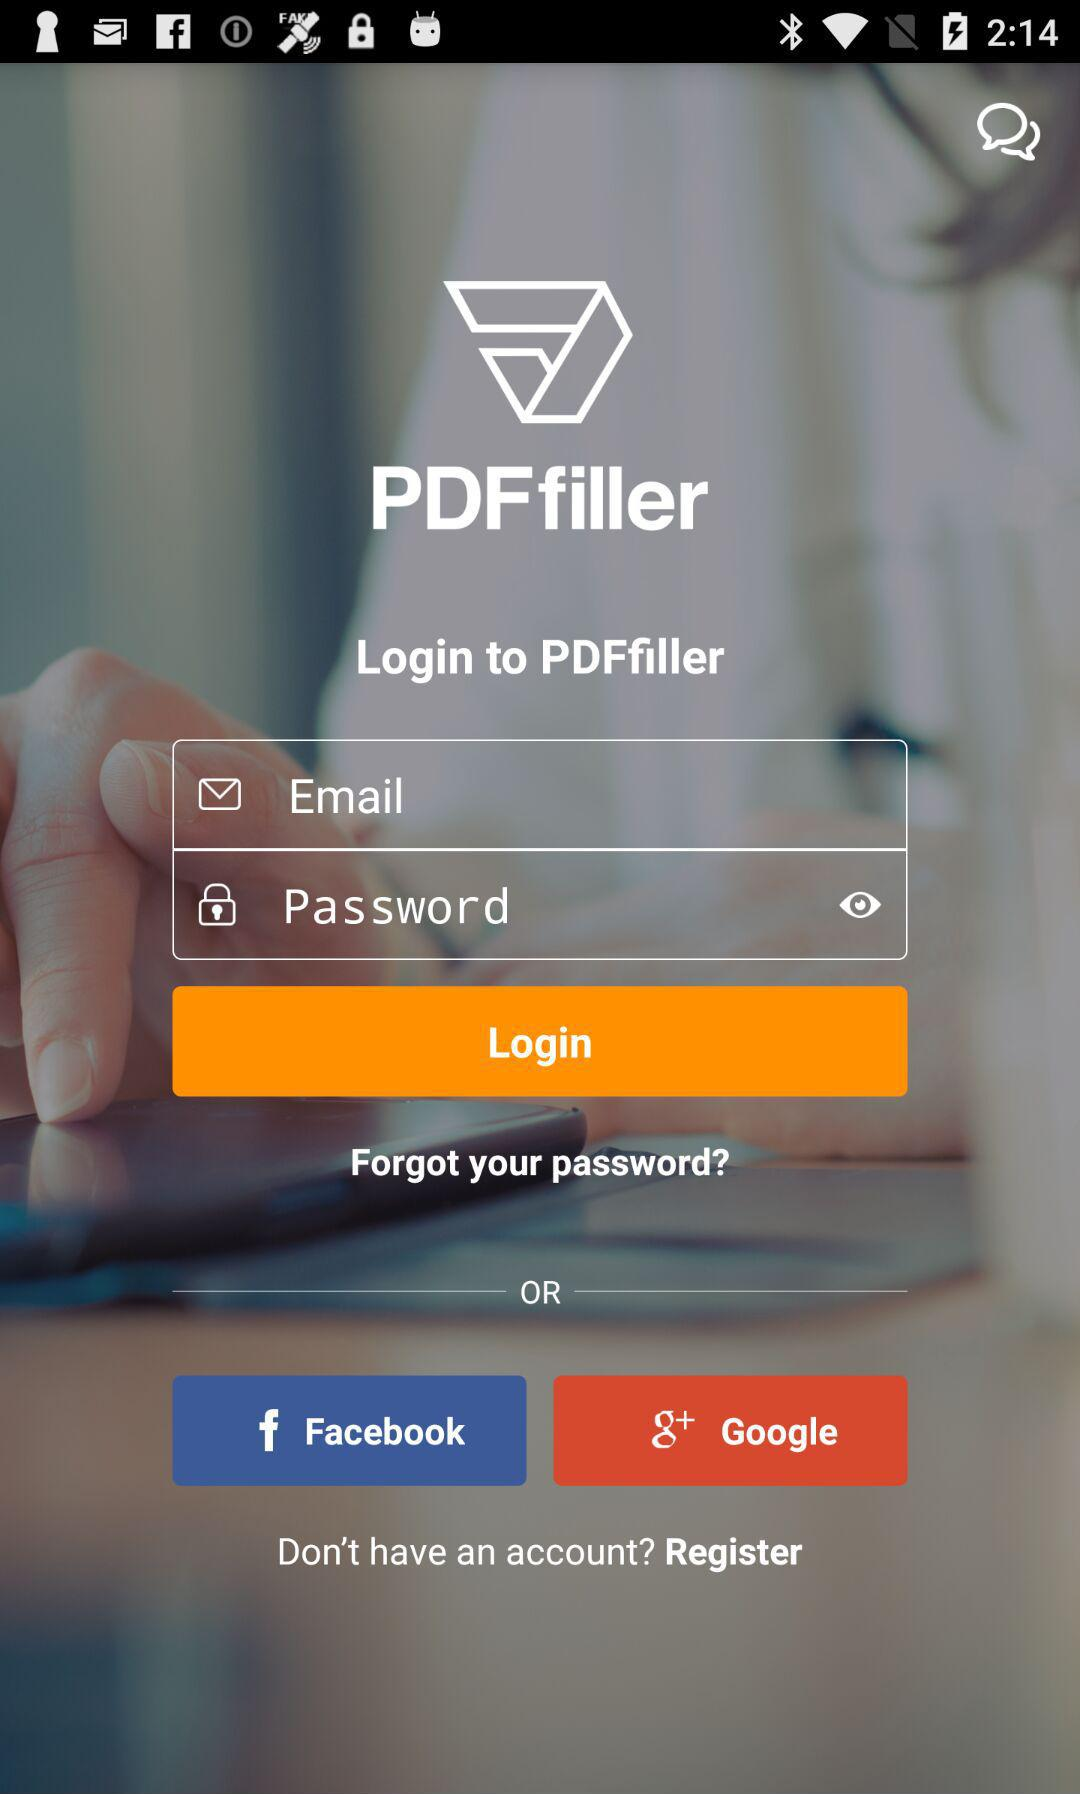BackgroundImage: (1, 64, 1080, 1794)
EditText: (172, 739, 908, 852), (172, 848, 908, 961)
Icon: (976, 103, 1042, 163), (199, 882, 238, 926), (199, 778, 242, 811), (839, 891, 881, 919)
Image: (442, 281, 634, 425)
Text: (373, 465, 708, 532), (279, 1535, 805, 1574), (357, 637, 726, 686), (351, 1146, 730, 1184), (286, 887, 509, 926), (292, 777, 404, 816), (520, 1280, 562, 1307)
TextButton: (172, 985, 910, 1098), (553, 1375, 910, 1486), (173, 1376, 528, 1486)
UpperTaskBar: (1, 1, 1080, 64)
